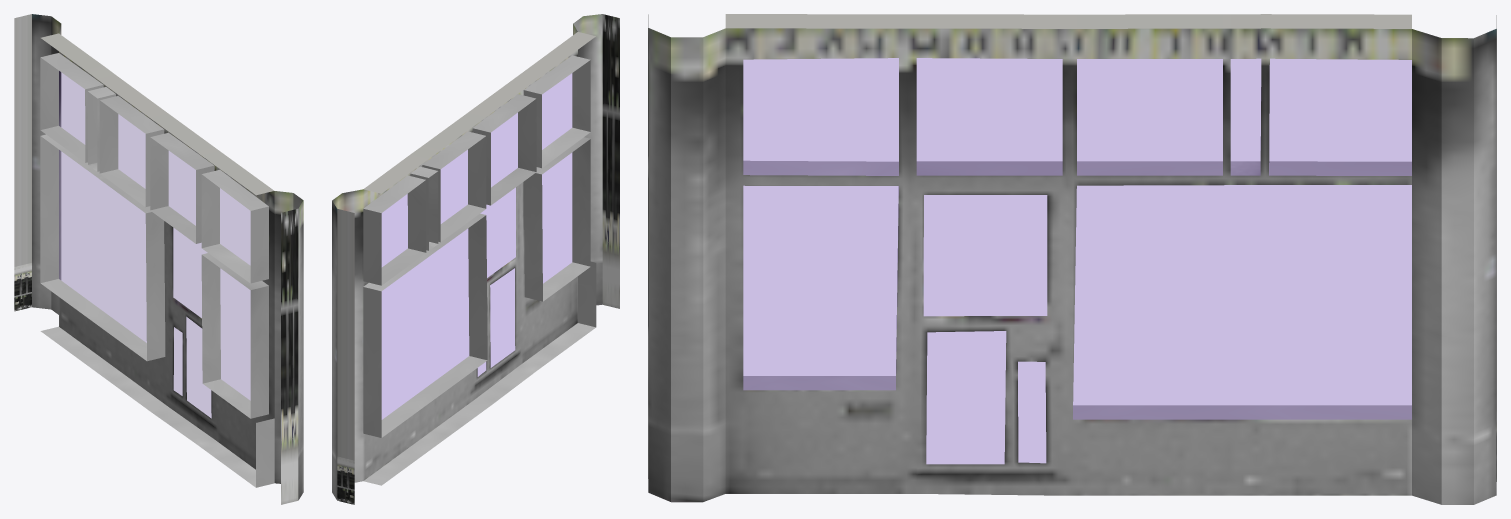
The model's file is frontstore (1).fbx.
3 views of the same model, side by side, from view 1: azimuth 30°, elevation 25°; view 2: azimuth 150°, elevation 25°; view 3: azimuth 270°, elevation 25° (orthographic). The views are drawn at different scales.
Visible parts, largest first — view 1: frontstore; view 2: frontstore; view 3: frontstore.
Part boxes in pixels (bbox=[...]): frontstore: bbox=[14, 14, 303, 504]; frontstore: bbox=[332, 14, 619, 504]; frontstore: bbox=[648, 14, 1496, 504].
Size of the model in its own units: 48.9 by 452 by 743.
